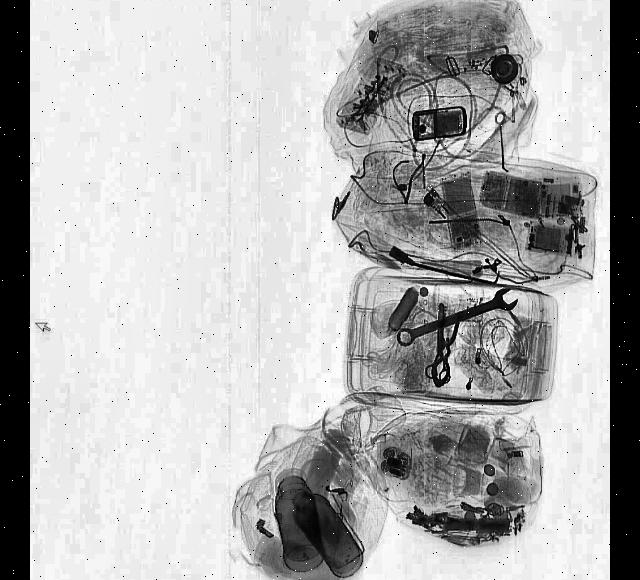Wrench: (394, 282, 520, 349)
